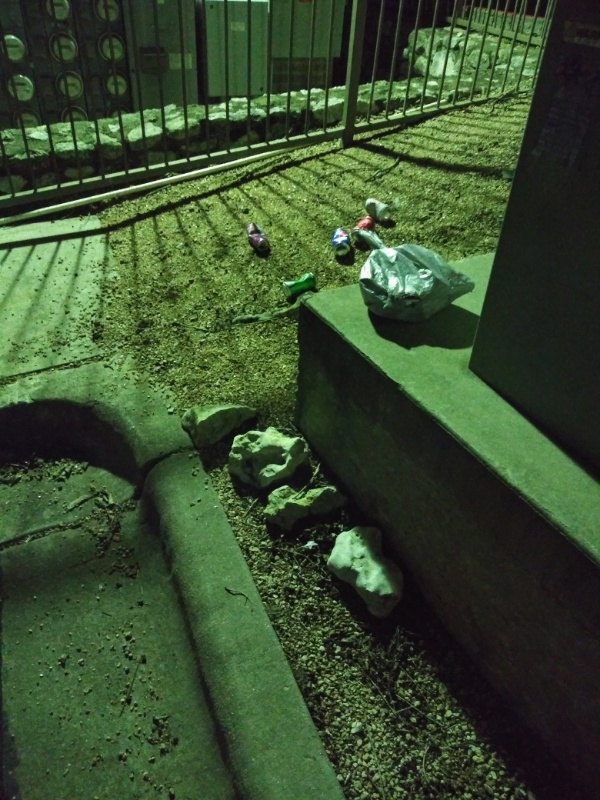can: (278, 268, 318, 299), (243, 220, 274, 258), (329, 223, 353, 255)
